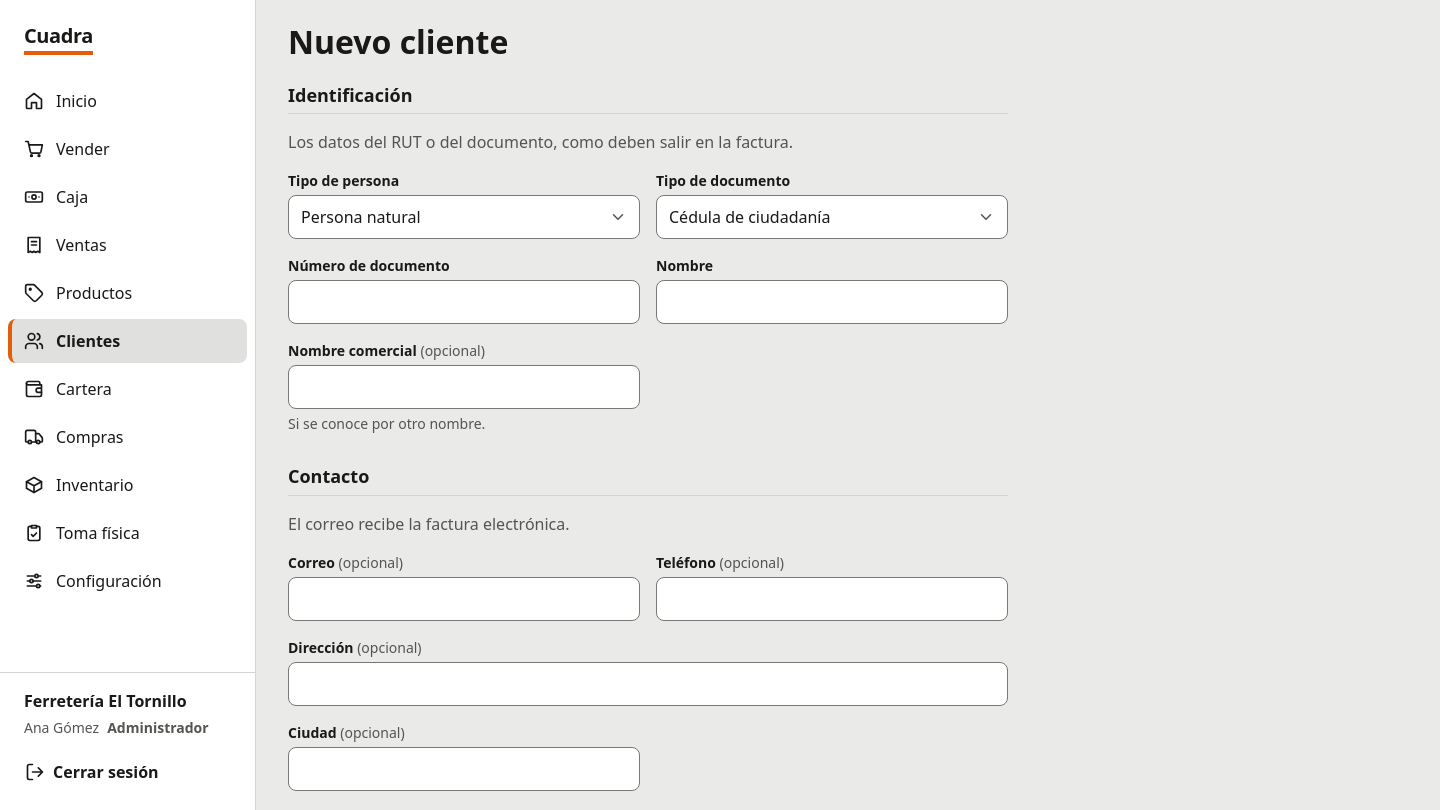
Scenario: CustomerFormPage: crear › crea una persona natural y vuelve a la lista
Type "1020304050" into the field labelled "Número de documento".
click(464, 302); type("1020304050")  # box top-left (288, 280), bottom-right (640, 324)
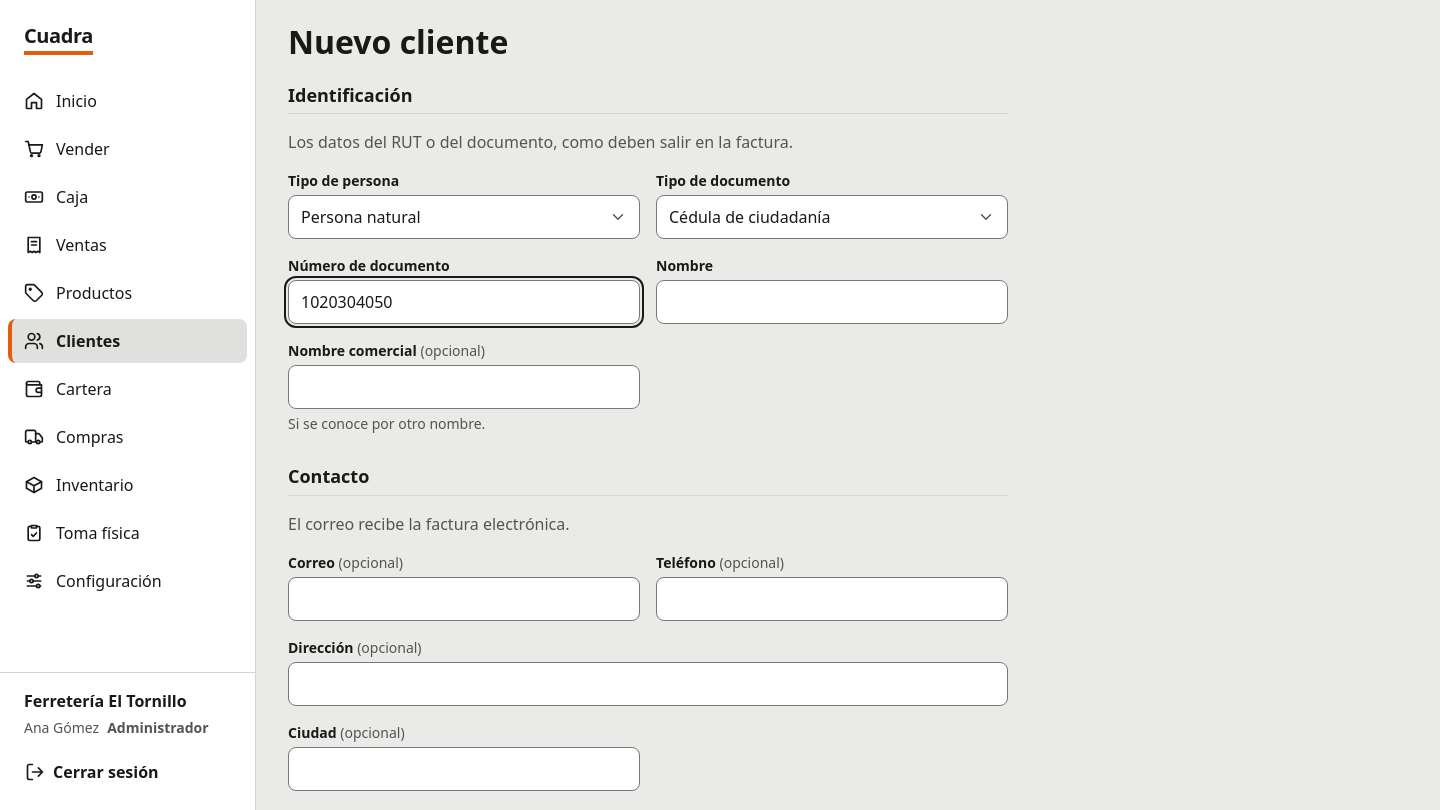
Type "Carlos Pérez" into the field labelled "Nombre".
click(832, 302); type("Carlos Pérez")  # box top-left (656, 280), bottom-right (1008, 324)
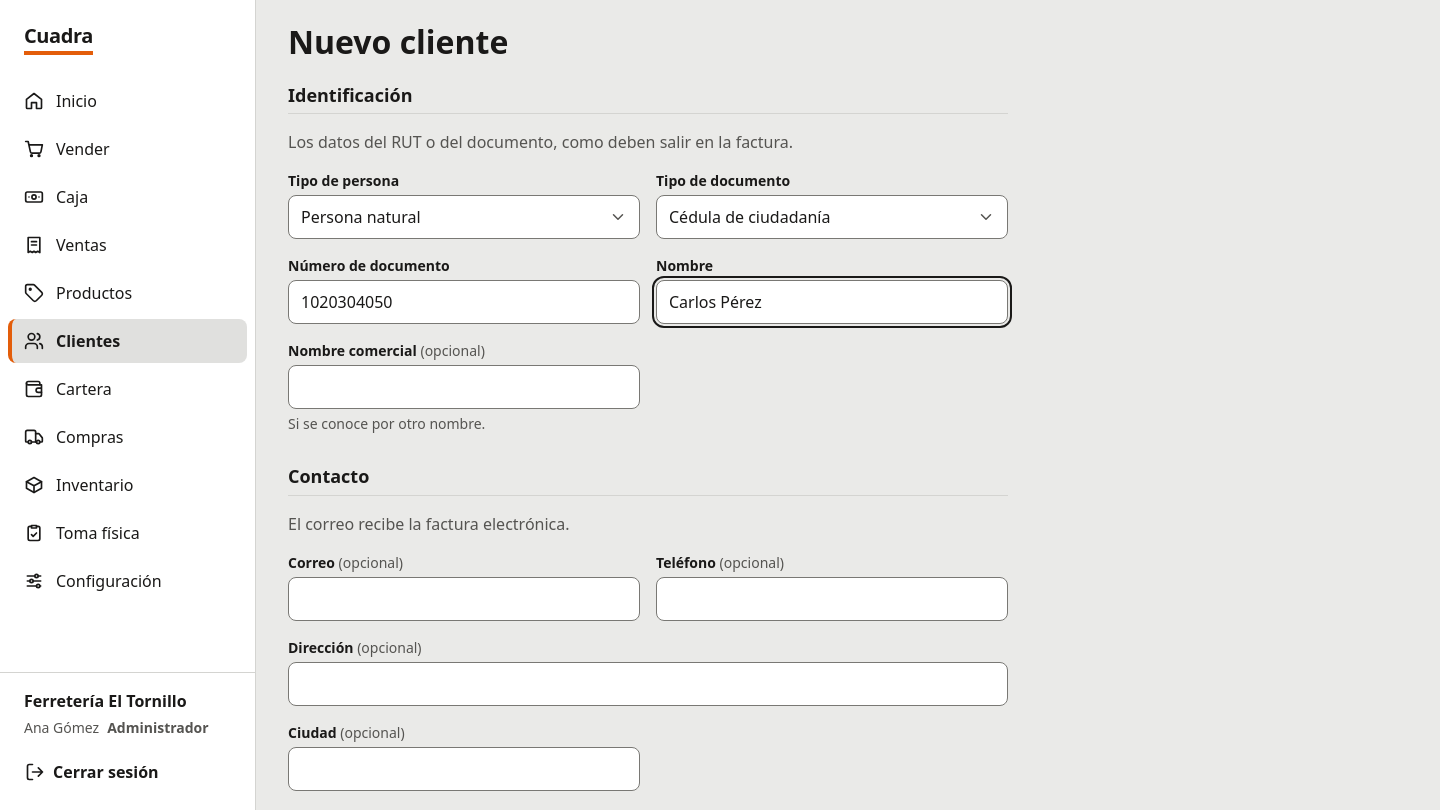
Type "3001234567" into the field labelled "Teléfono (opcional)".
click(832, 599); type("3001234567")  # box top-left (656, 577), bottom-right (1008, 621)
(page scrolled)
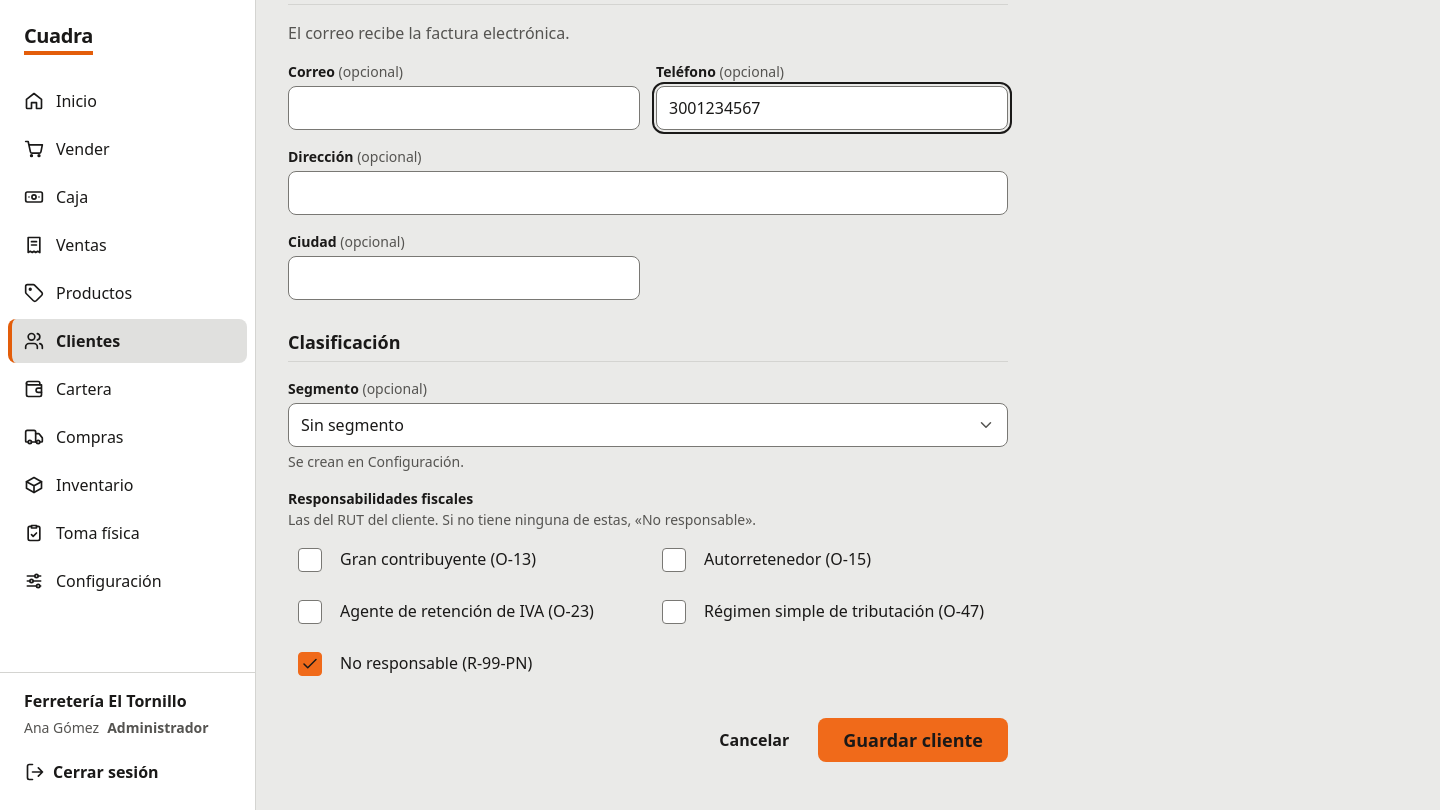
Click the dropdown labelled "Sin segmento".
click(352, 425)  # box top-left (288, 403), bottom-right (1008, 447)
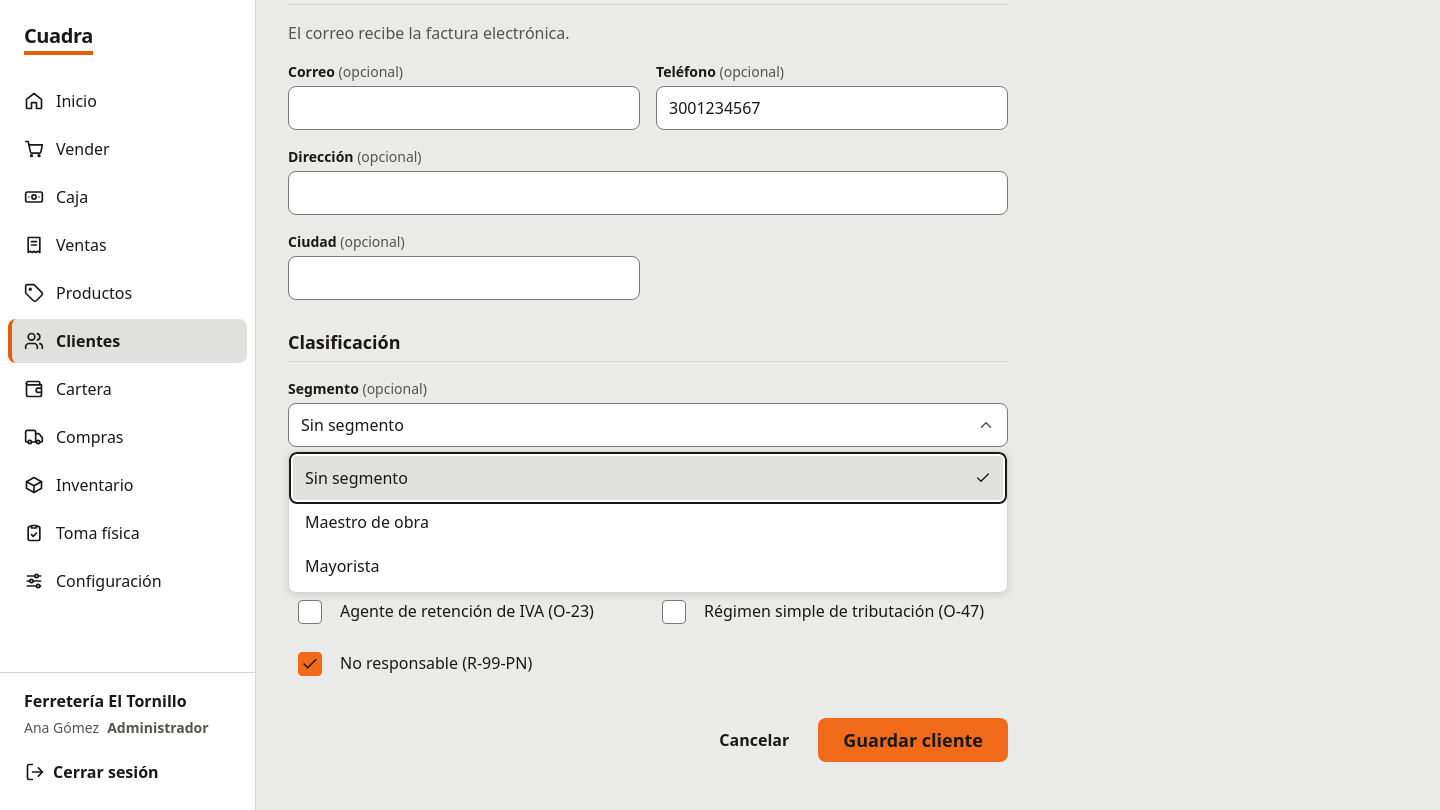
Click the option "Maestro de obra".
click(367, 522)  # box top-left (305, 511), bottom-right (429, 533)
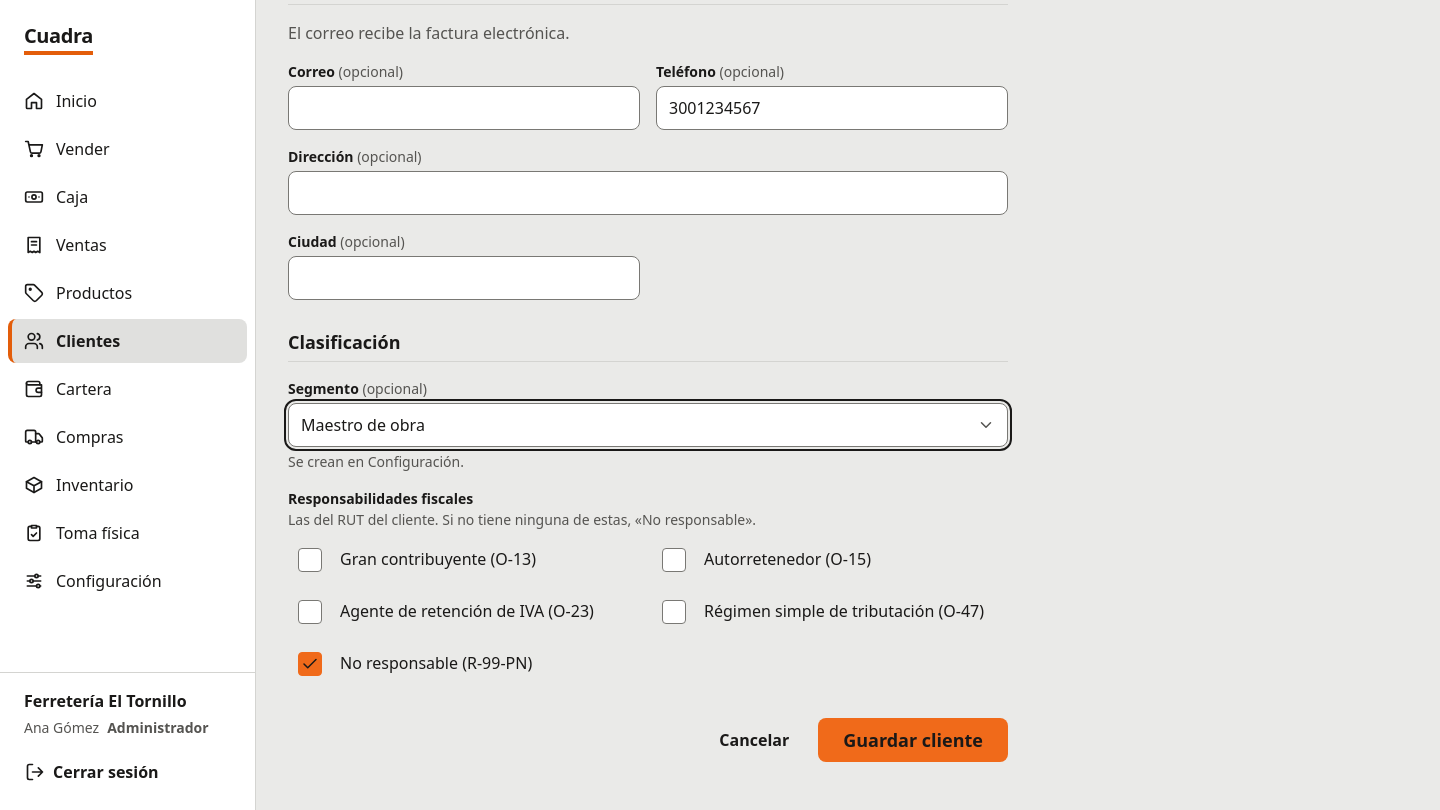
Click the button "Guardar cliente".
click(913, 740)  # box top-left (818, 718), bottom-right (1008, 762)
(page scrolled)
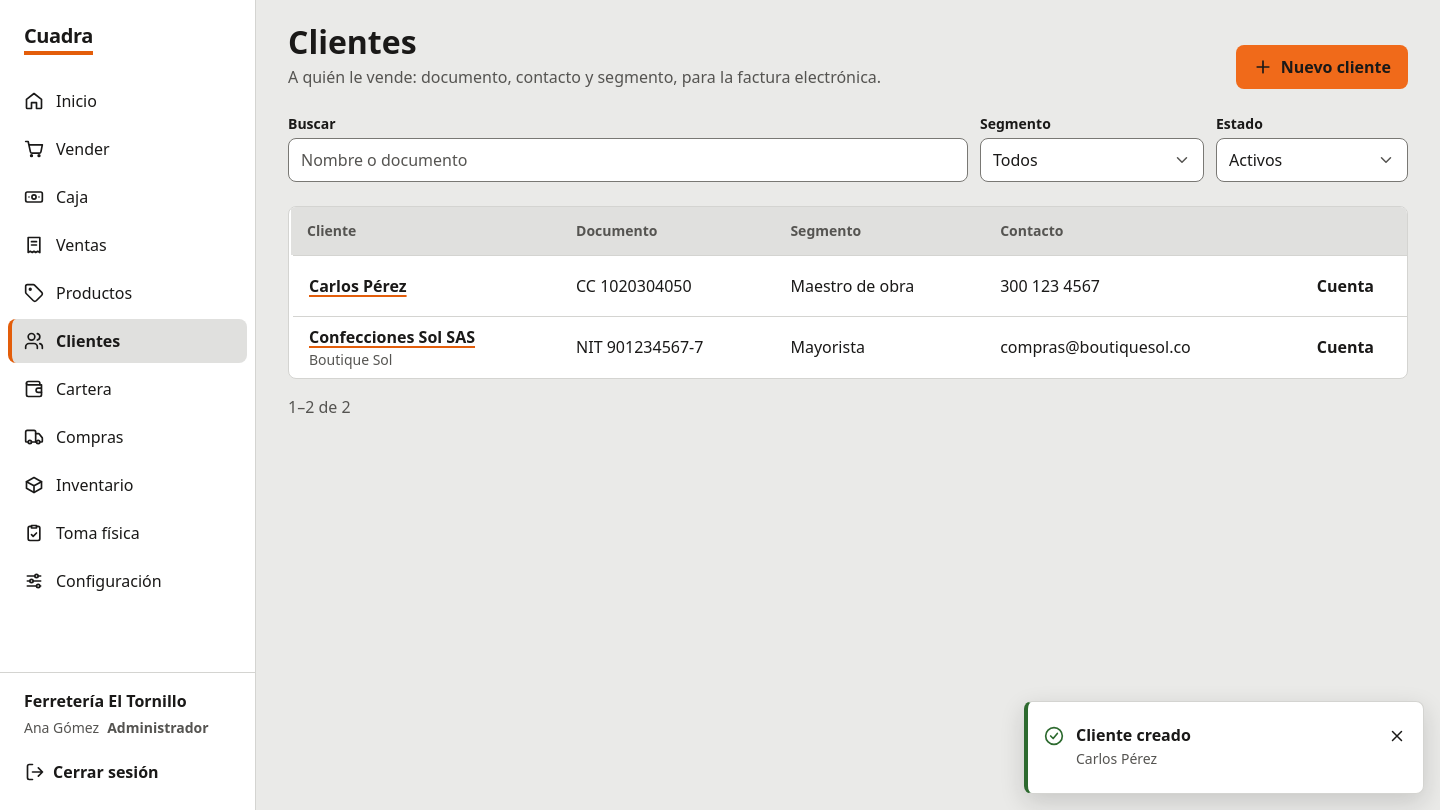
Result: the heading "Clientes" is shown at top-left (288, 20), bottom-right (416, 63)
